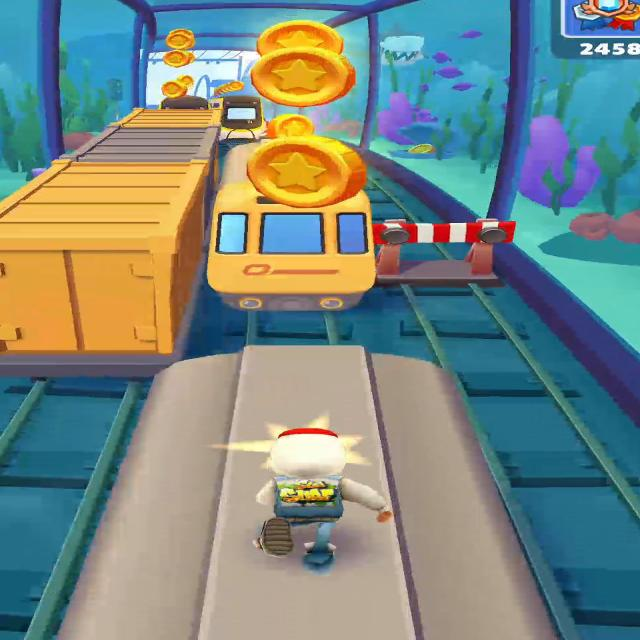blocker: (373, 219, 515, 276)
train: (0, 158, 206, 358), (206, 144, 377, 310), (218, 94, 263, 139), (160, 95, 211, 110)
